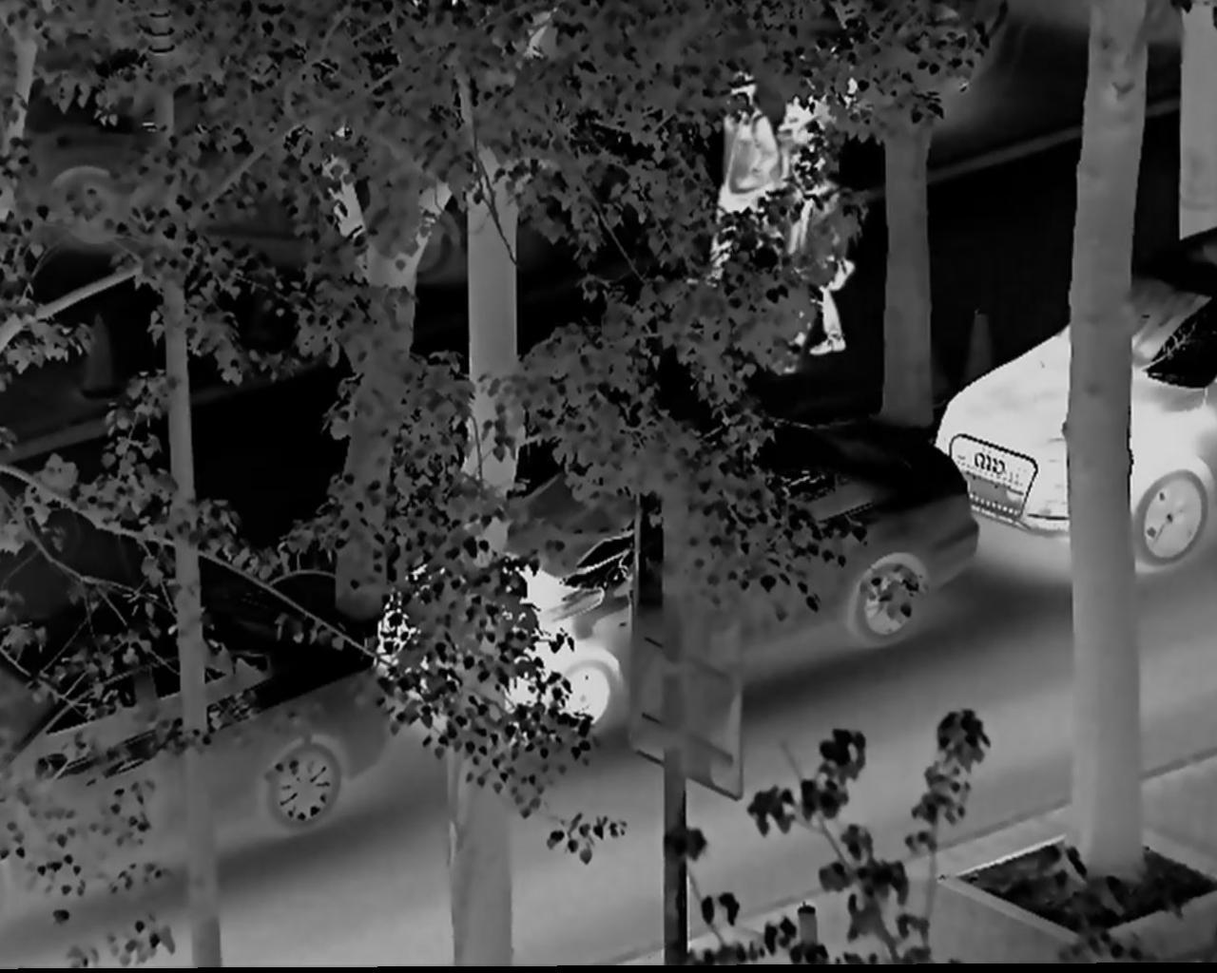person: (779, 103, 856, 355), (702, 71, 786, 297)
